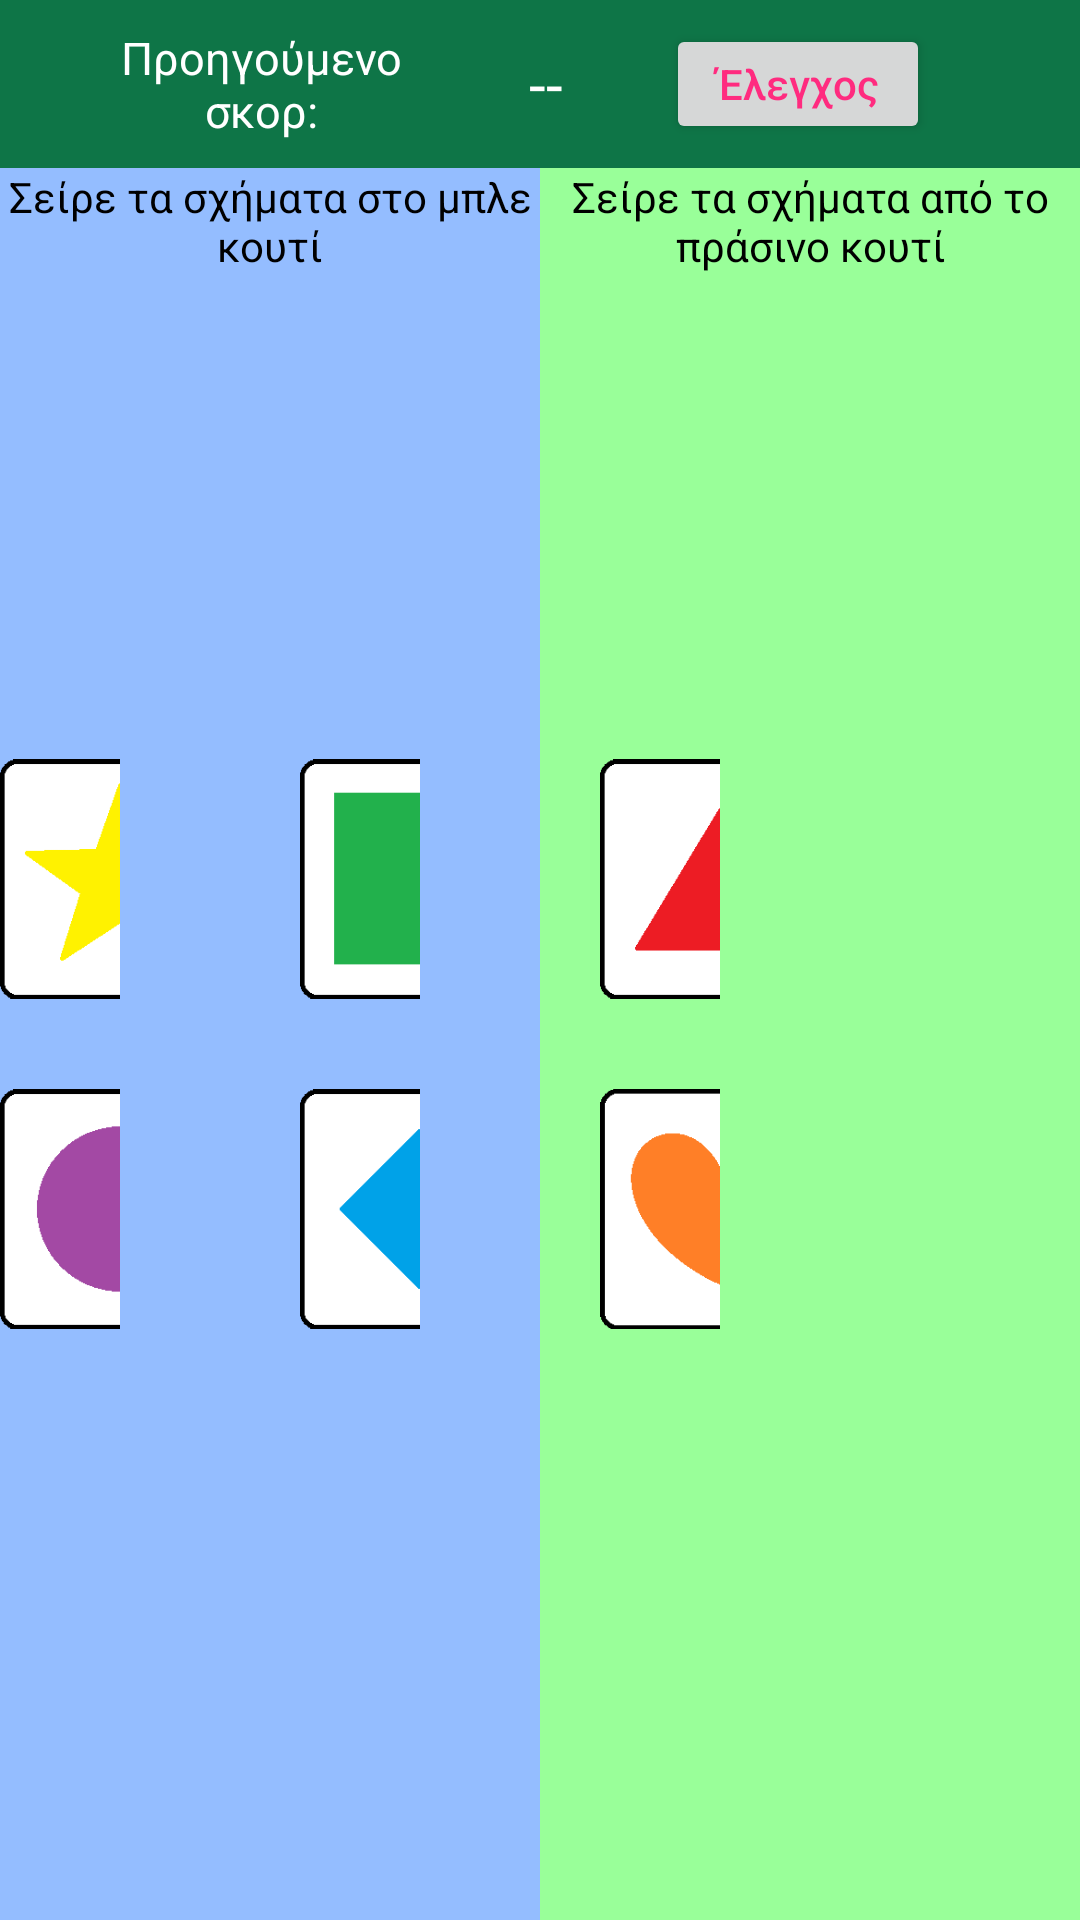

Where to tap for icons on this 1080w x 1920h app screen, as (x,y):
circle left: (60,1209)
heart left: (660,1209)
rombos left: (360,1209)
square left: (360,879)
star left: (60,879)
triangle left: (660,879)
